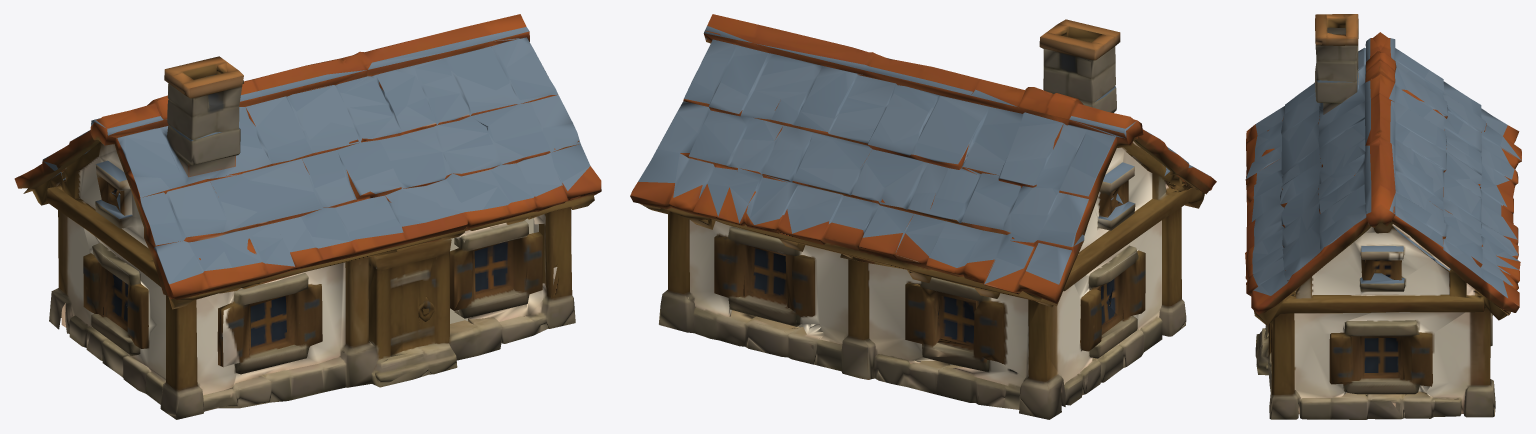
Rendered from house_a_blue.glb.
3 renders of one model, left to right at view 1: azimuth 30°, elevation 25°; view 2: azimuth 150°, elevation 25°; view 3: azimuth 270°, elevation 25°, orthographic. The views are drawn at different scales.
Parts seen in each view (by area): view 1: house_a_blue; view 2: house_a_blue; view 3: house_a_blue.
Part boxes in pixels (x1,y1,x2,y2): house_a_blue: (14, 14, 601, 419); house_a_blue: (630, 14, 1216, 419); house_a_blue: (1245, 14, 1521, 419).
Bounding box in the file's own units: 7 × 4.81 × 4.56.
5 materials, 1 textured.
